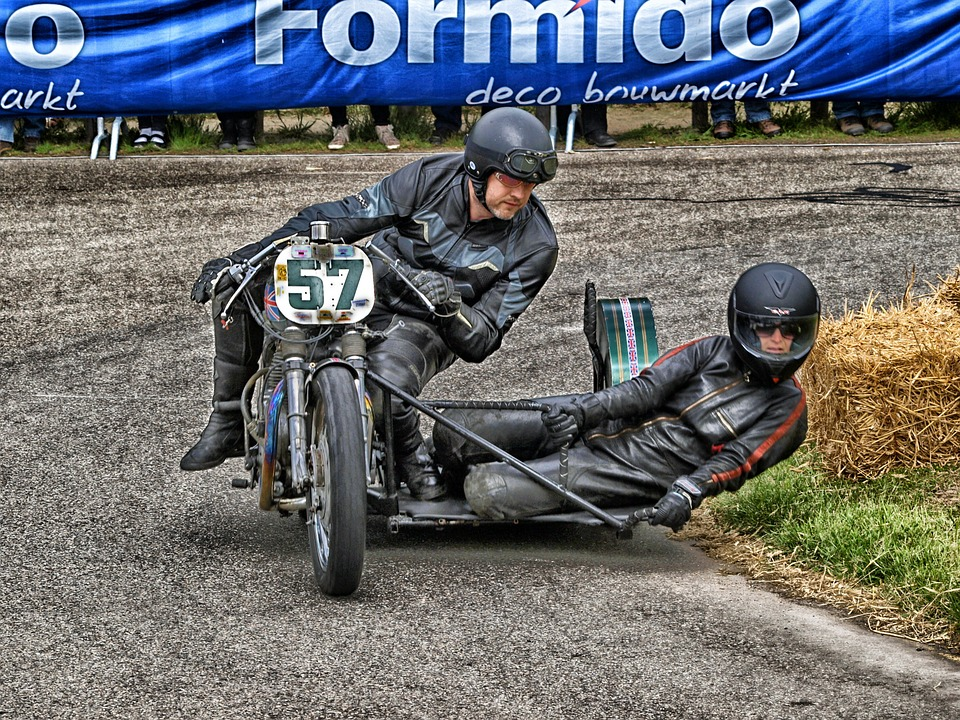helmet: (460, 105, 561, 232), (721, 256, 826, 378)
